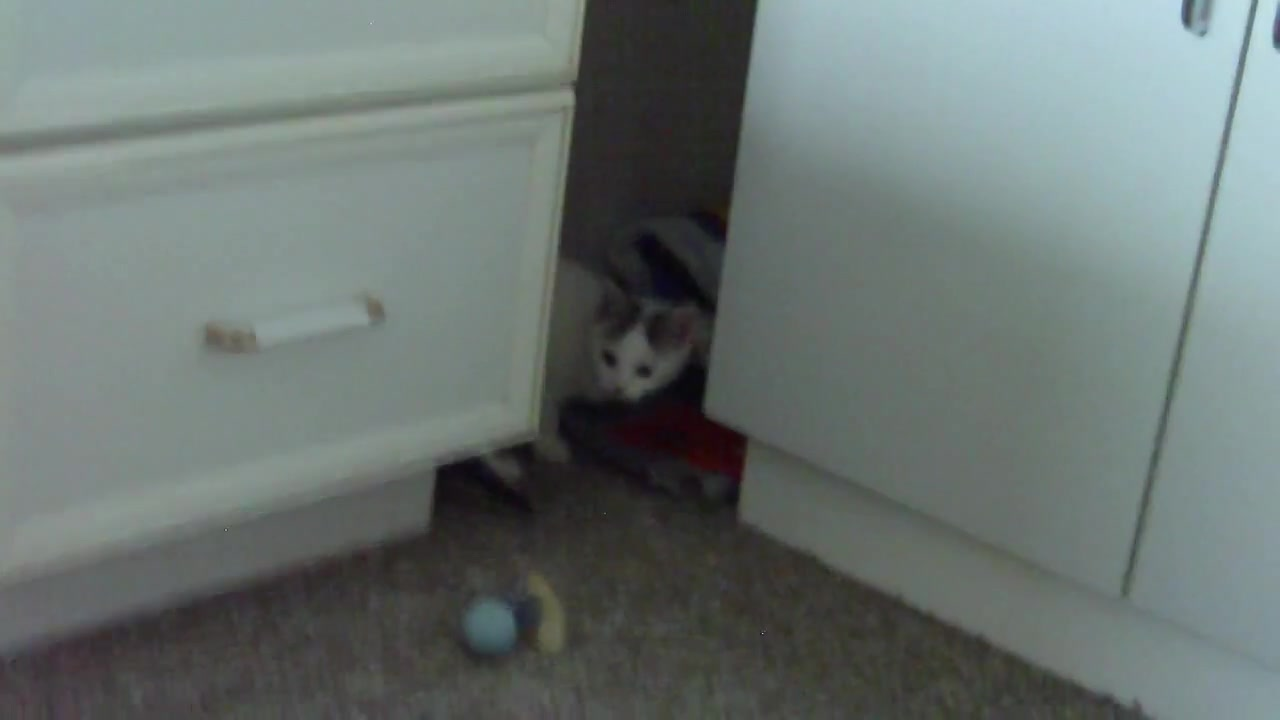cat: (474, 256, 704, 493)
